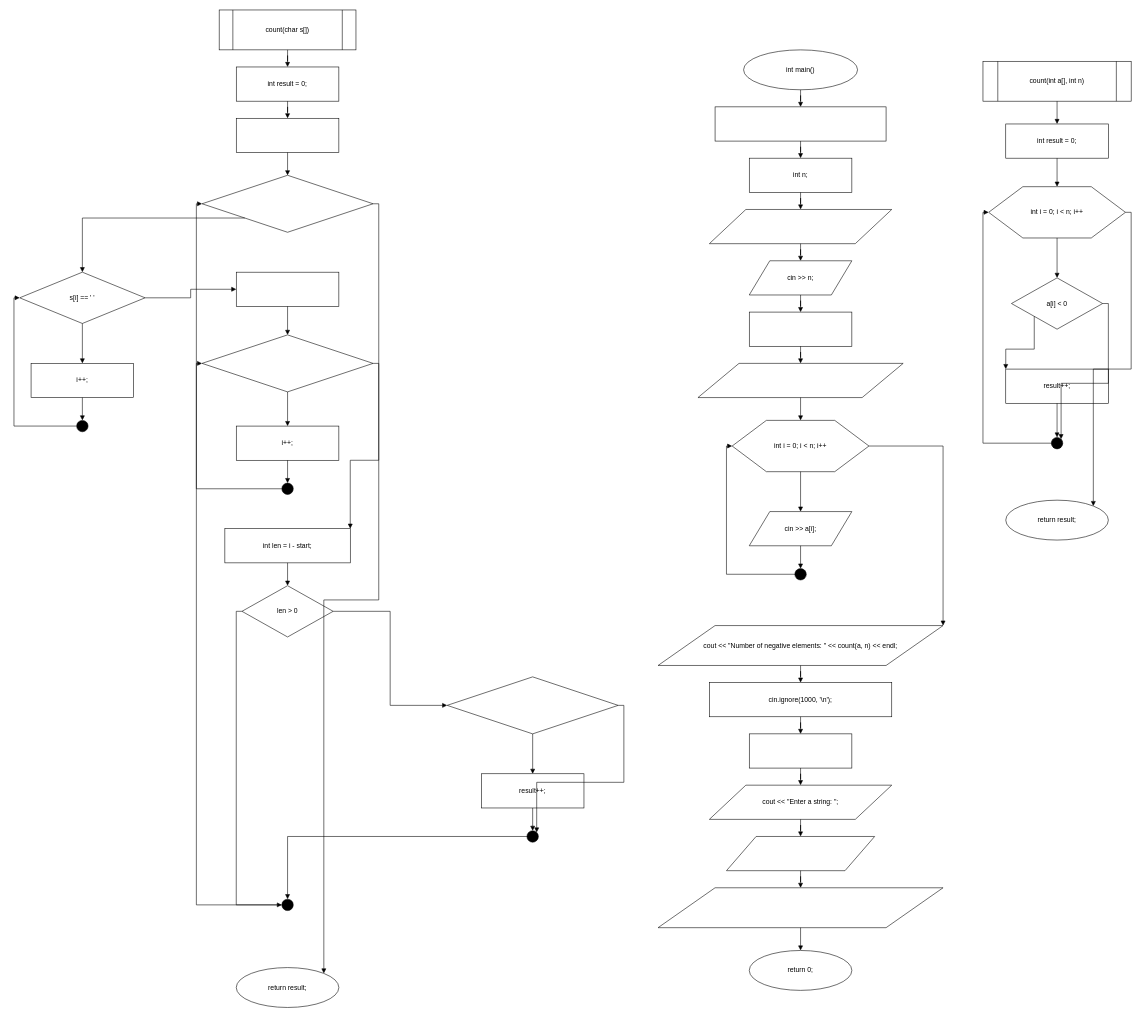
This 1146x1017 diagram has some shape labels left out. Each missing label, with the box of its shape:
char s[256];: (749, 733, 852, 768)
cin.getline(s, 256);: (726, 836, 875, 871)
cout << "Enter array elements: ";: (697, 363, 903, 398)
cout << "Enter array size: ";: (709, 209, 892, 244)
cout << "Number of matching words: " << count(s) << endl;: (657, 887, 943, 928)
int a[256];: (749, 312, 852, 346)
int i = 0;: (236, 118, 339, 152)
int start = i;: (236, 272, 339, 306)
s[i] != ' ' && s[i] != '.' && s[i] != '\0': (201, 334, 373, 392)
s[i] != '.' && s[i] != '\0': (201, 175, 373, 232)
s[start] == s[start + len - 1]: (447, 676, 618, 734)
setlocale(LC_ALL, "Russian");: (714, 106, 886, 141)
